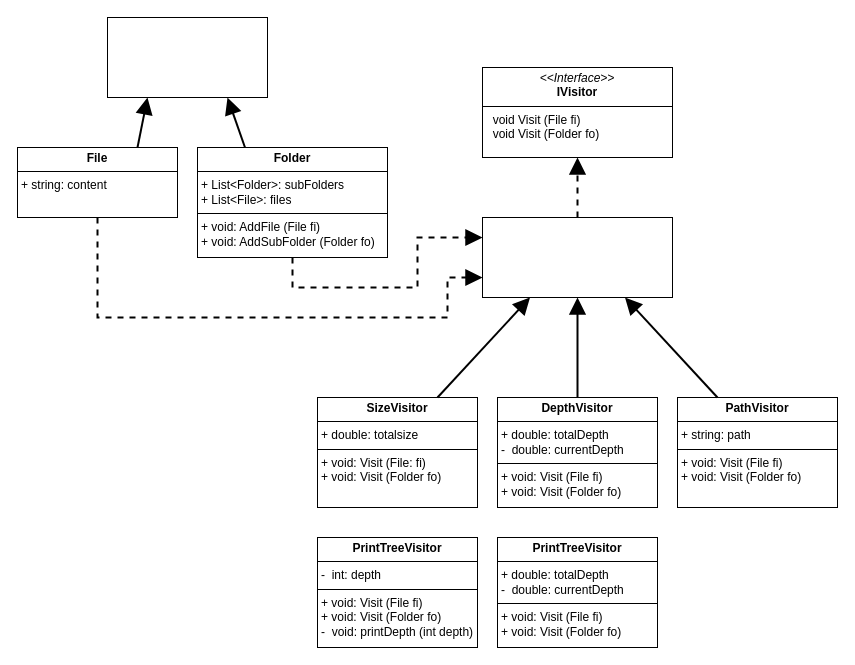
Image size: 855x665. Some labels were removed from this diagram. Here are the shapes that lost their labels. From the top down, the centre of each, then its label:
the point at 187,57: Directory + string: name + double: size
the point at 577,257: <<Interface>> IVisitableElement void: Accept (IVisitor visitor)
